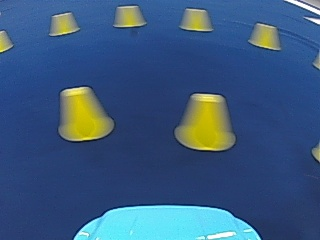cone: (177, 93, 235, 151), (57, 86, 111, 141), (249, 22, 280, 50), (179, 8, 212, 31), (114, 5, 146, 28), (49, 11, 78, 35), (0, 29, 13, 51)
